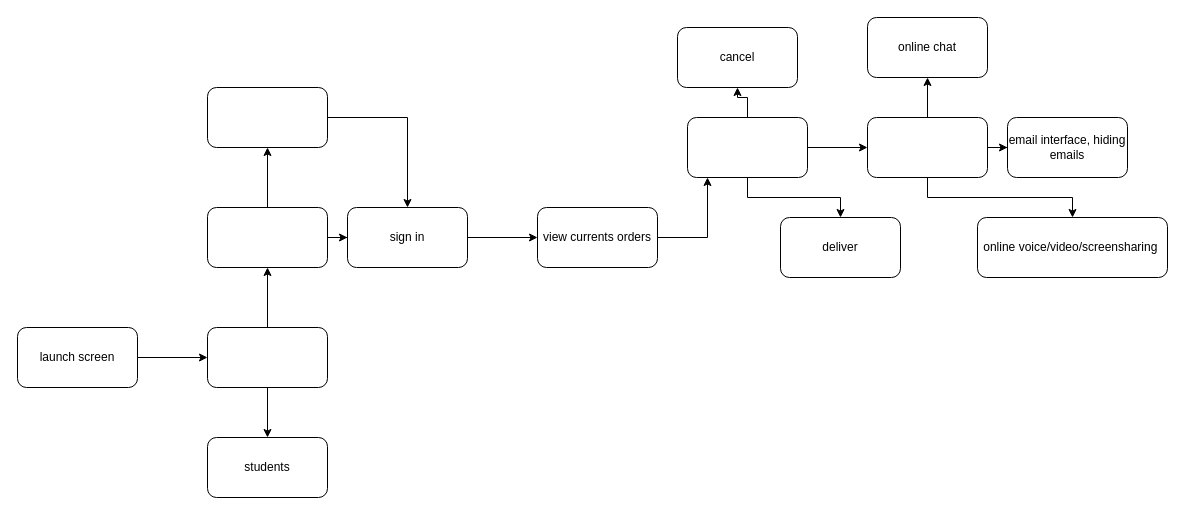
Some shapes in this 1185 by 515 pixel diagram are drawn without their labels. The centre of each missing label's shape, as x and y in pixels:
"contact" belongs at (x=927, y=147).
"main interface" belongs at (x=267, y=357).
"options on order" belongs at (x=747, y=147).
"sign up" belongs at (x=267, y=117).
"tutors" belongs at (x=267, y=237).
